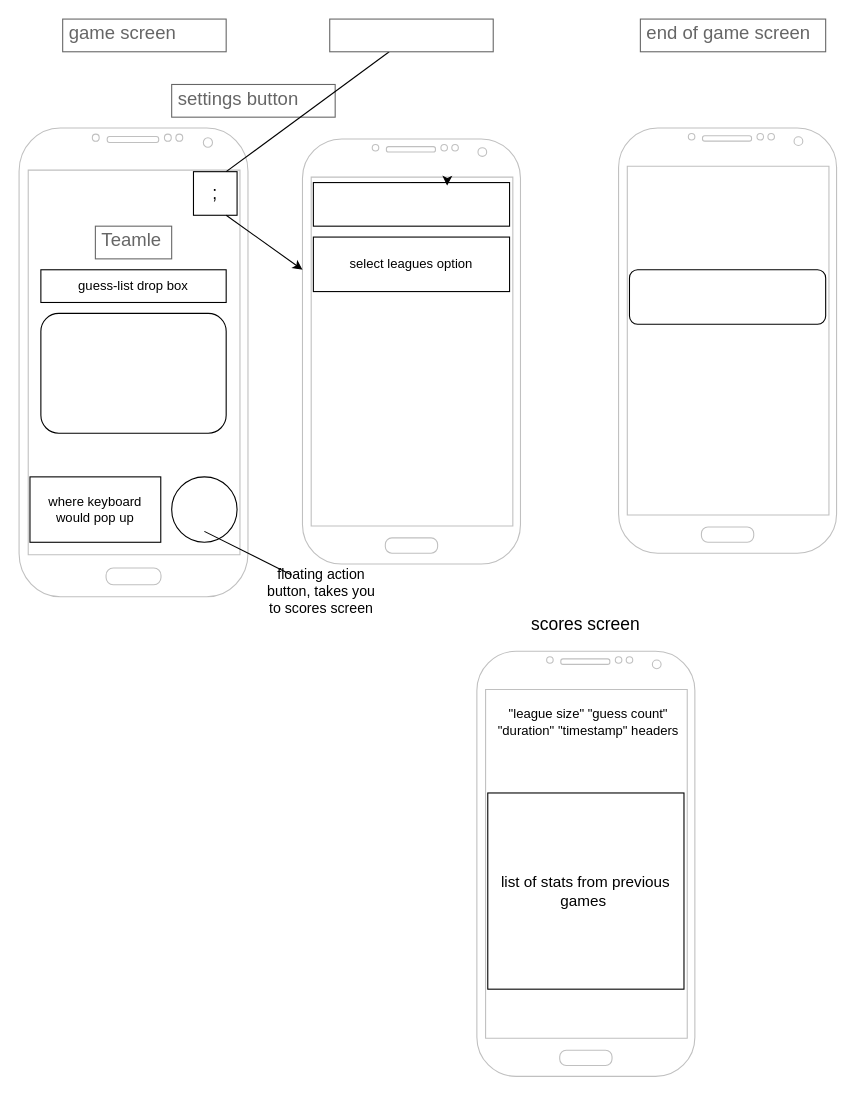
Some shapes in this 856 by 1095 pixel diagram are drawn without their labels. The box of each missing label's shape, as (x1, y1, x2, y2) in pixels:
"Congratulations" message: (628, 269, 826, 324)
list of guesses/ answers for each category: (40, 312, 226, 433)
select sport option: (312, 181, 510, 226)
settings screen: (329, 18, 493, 52)
